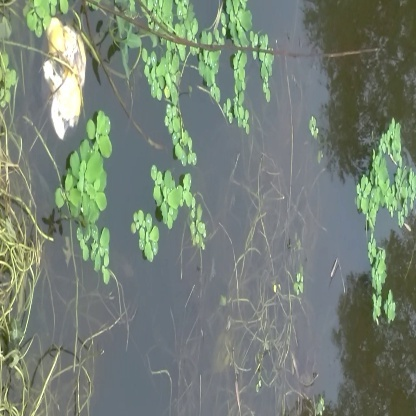leaf: (153, 165, 199, 228)
